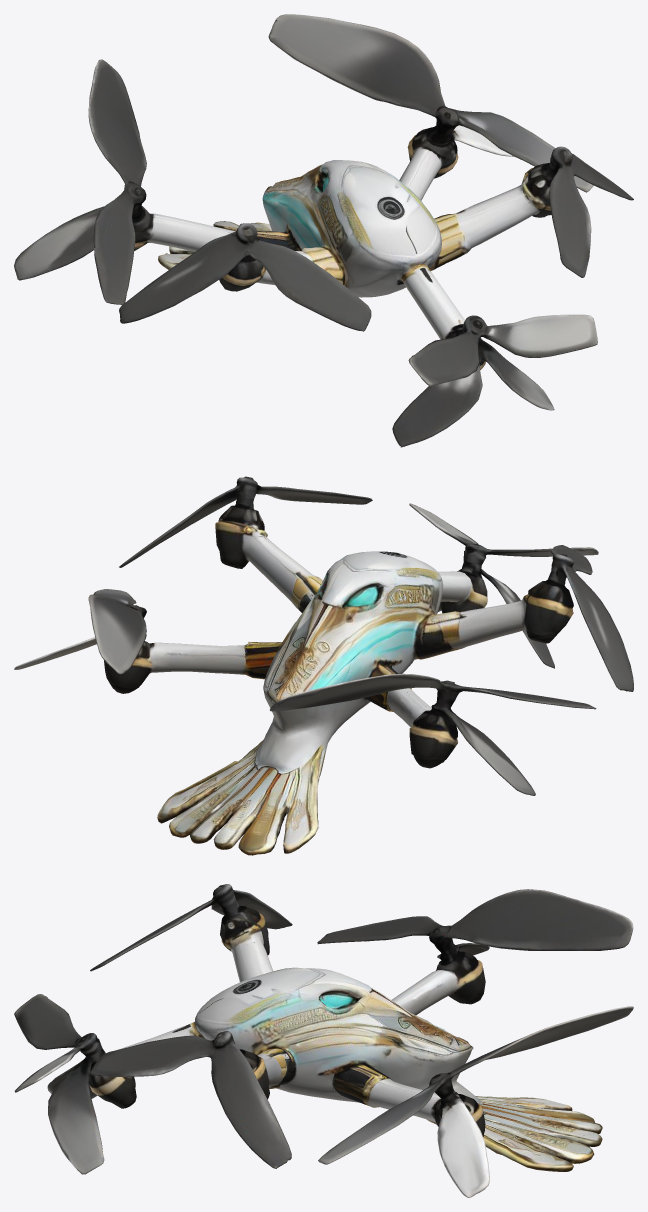
The model's file is garuda-drone.glb.
3 renders of one model, top to bottom at view 1: azimuth 30°, elevation 25°; view 2: azimuth 150°, elevation 25°; view 3: azimuth 270°, elevation 25°, orthographic. The views are drawn at different scales.
Parts seen in each view (by area): view 1: garuda-drone; view 2: garuda-drone; view 3: garuda-drone.
Boxes of the visible parts, x1,y1,x2,y2 form: garuda-drone: [14, 14, 633, 447]; garuda-drone: [14, 476, 633, 855]; garuda-drone: [14, 884, 633, 1197].
Size of the model in its own units: 0.6 by 0.2113 by 0.6495.
Materials: 1 (1 with a texture image).
